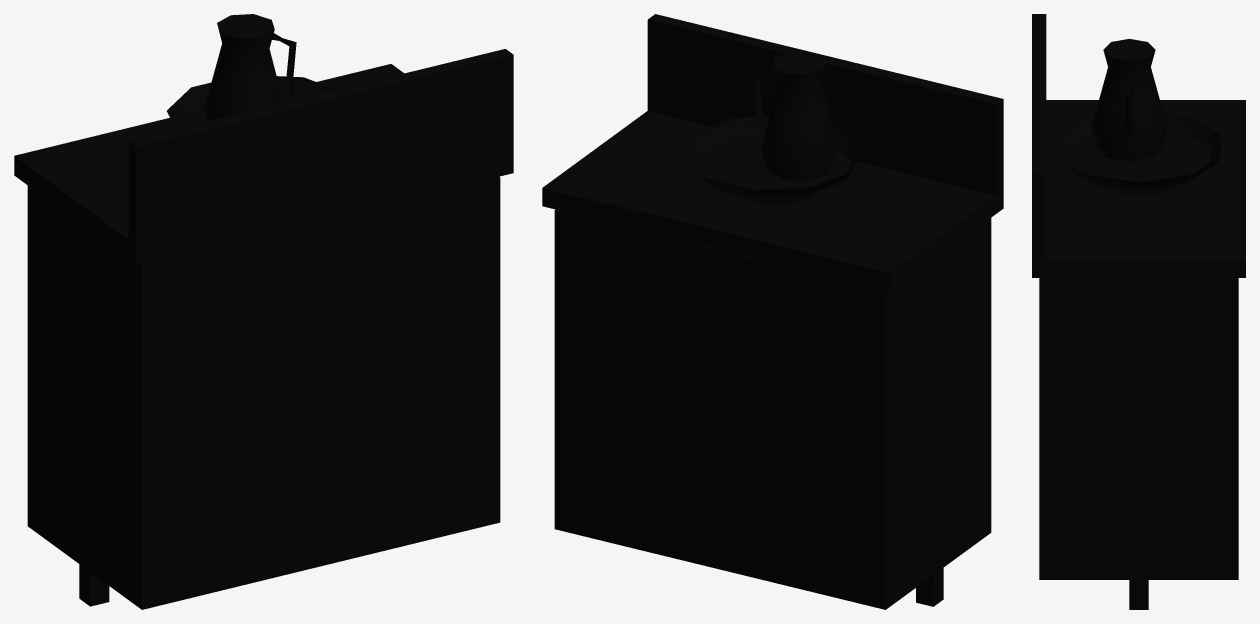
Rendered from SM_wash_stand.fbx.
3 views of the same model, side by side, from view 1: azimuth 30°, elevation 25°; view 2: azimuth 150°, elevation 25°; view 3: azimuth 270°, elevation 25° (orthographic). The views are drawn at different scales.
Visible parts, largest first — view 1: wash_stand; view 2: wash_stand; view 3: wash_stand.
Boxes of the visible parts, <box> form: wash_stand: <box>14,14,513,609</box>; wash_stand: <box>542,14,1003,609</box>; wash_stand: <box>1032,14,1245,609</box>.
Bounding box in the file's own units: 0.8 × 1.1 × 0.45.
